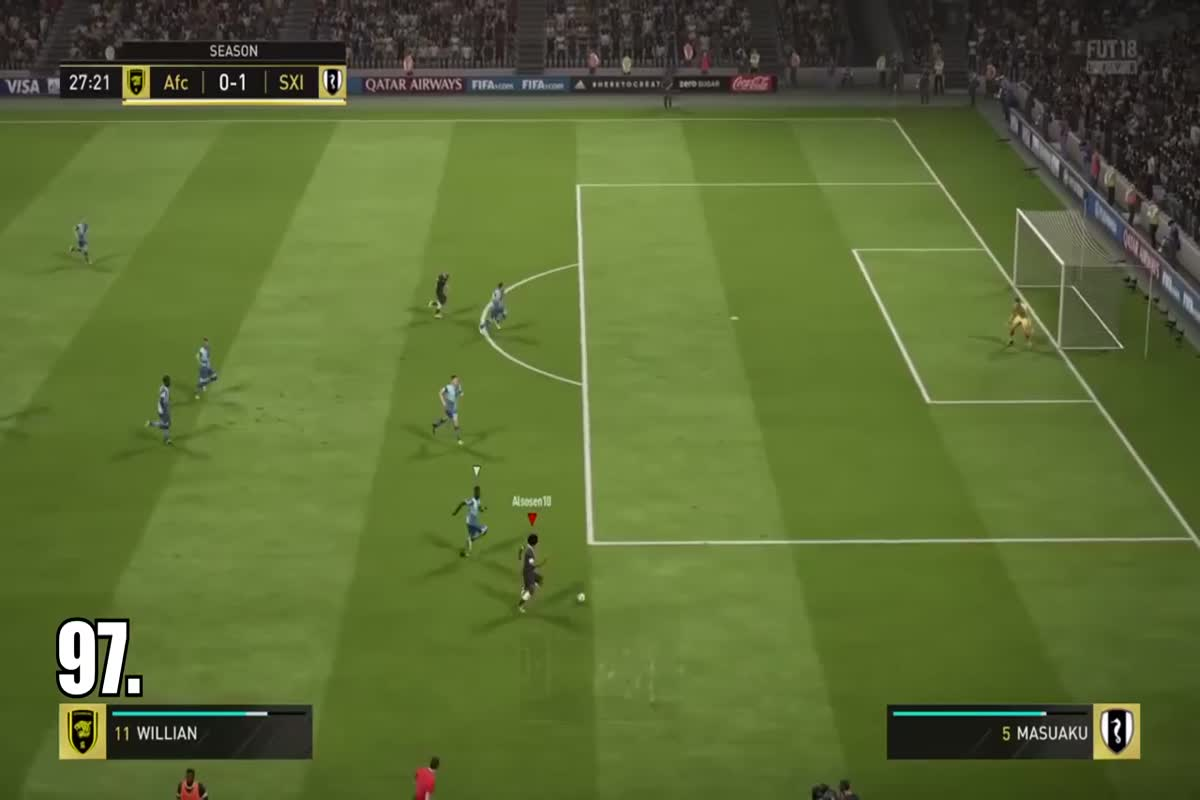ball: (567, 583, 594, 608)
